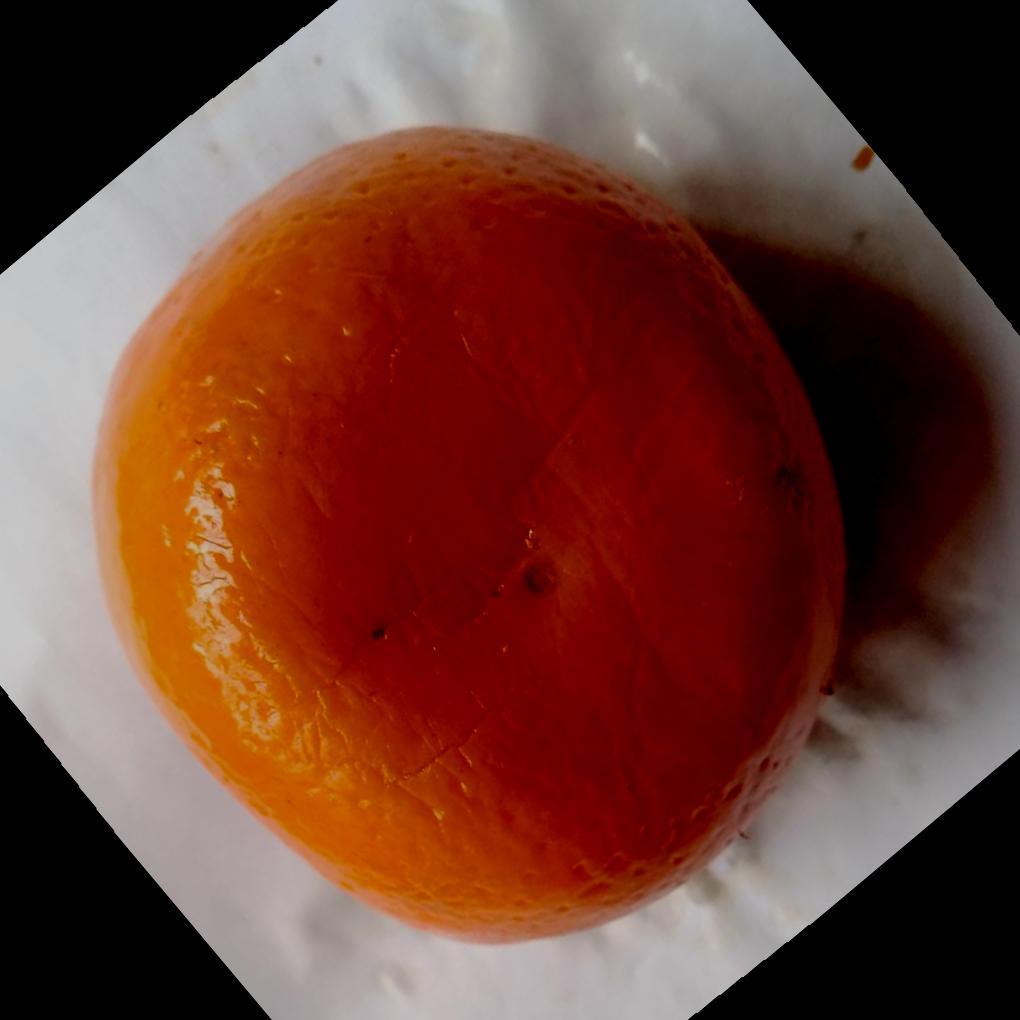FreshOrange: (91, 120, 852, 944)
